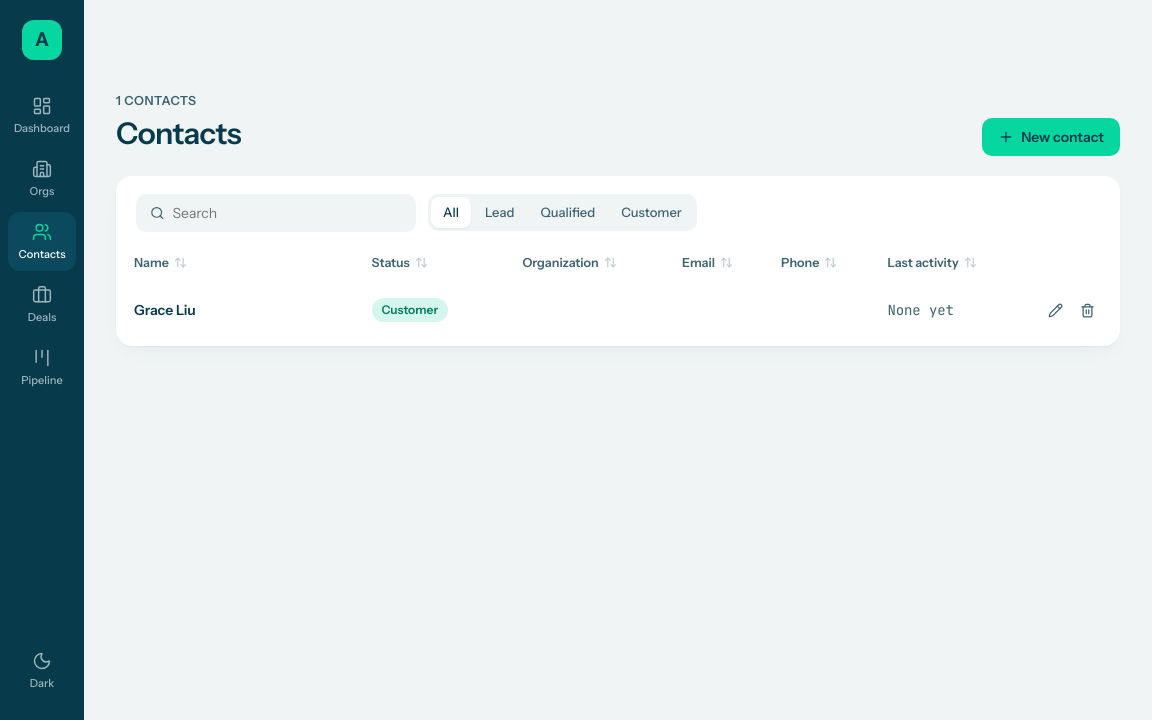
it: the contacts list › edits a contact with no email, phone or job title, keeping them empty
What coordinates should you click on to do the following:
click the button named "Edit Grace Liu"
I would click on:
 (1055, 310)
Its box is [1040,295,1070,325].
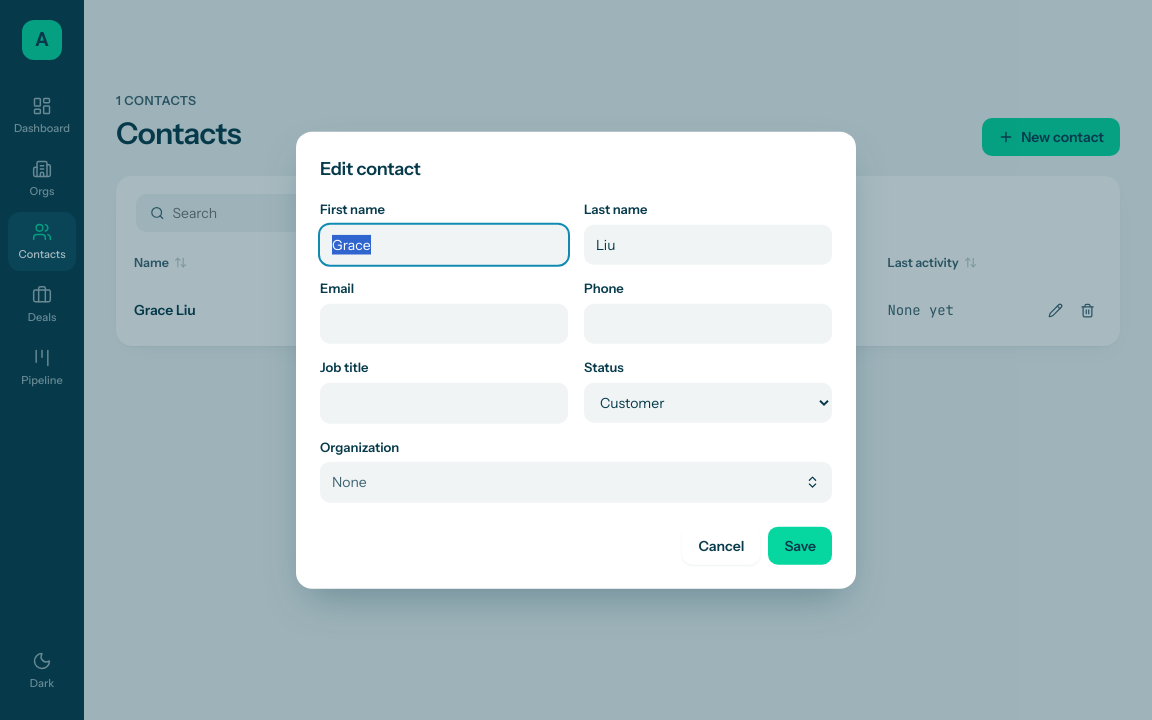
Expected: the field labelled "Email" is empty, [320,304,568,344]
Now the dropdown labelled "Status" shows "Customer", box [584,383,832,423]
What coordinates should you click on to do the following:
click the button "Save"
I would click on:
 (800, 545)
Its box is [768,526,832,564].
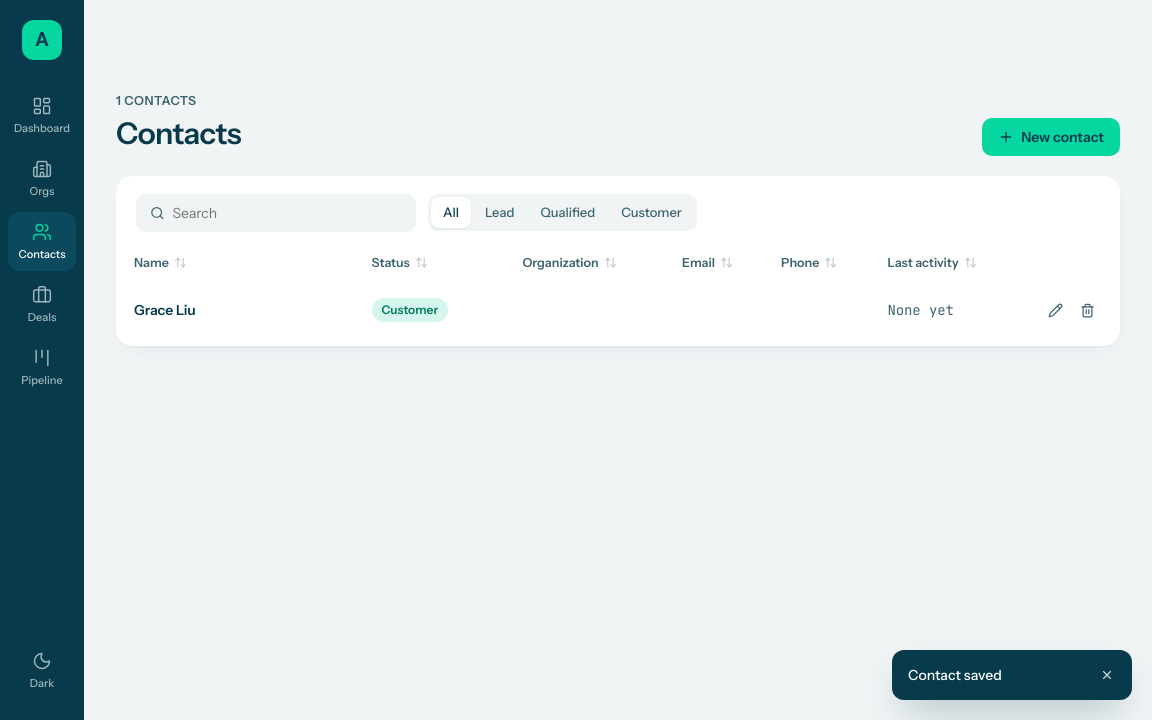
Now the dialog is gone
